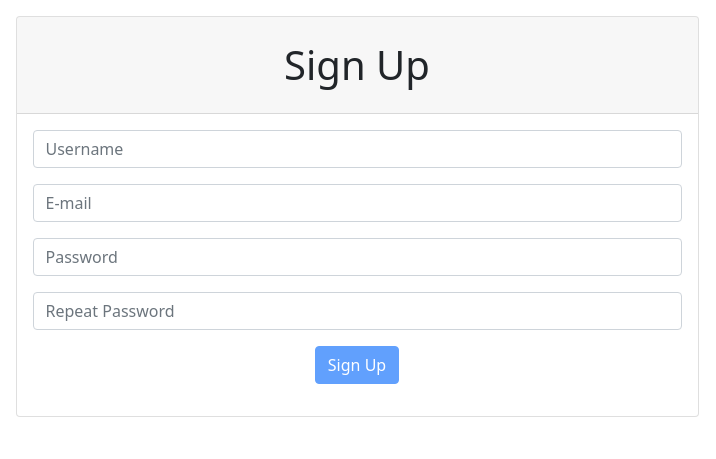
Test case: Sign Up Page › Interactions › displays validation message for password
Type "pepito1" into the field with placeholder "Username".
click(357, 149); type("pepito1")  # box x1=32 y1=130 x2=682 y2=168
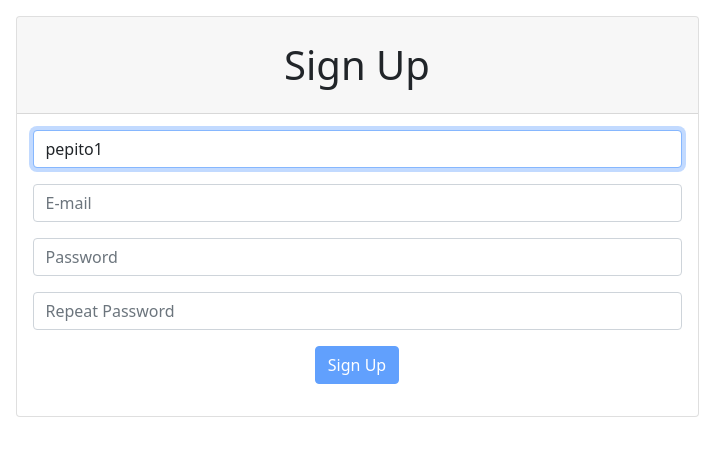
Type "pepito1@mail.com" into the field with placeholder "E-mail".
click(357, 203); type("pepito1@mail.com")  # box x1=32 y1=184 x2=682 y2=222
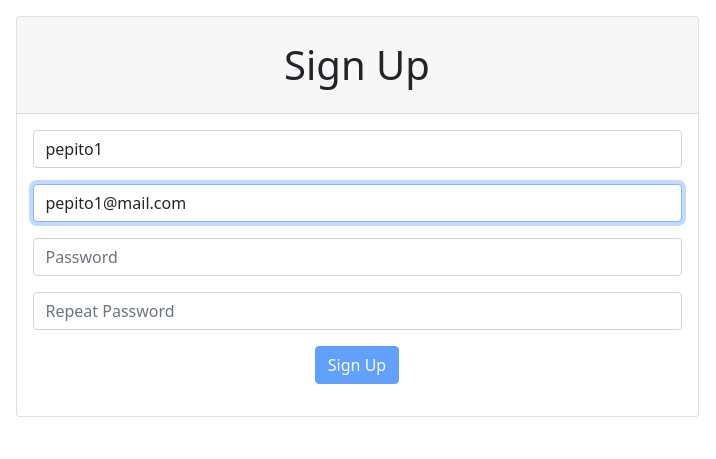
Type "p4ssword" into the password field with placeholder "Password".
click(357, 257); type("p4ssword")  # box x1=32 y1=238 x2=682 y2=276
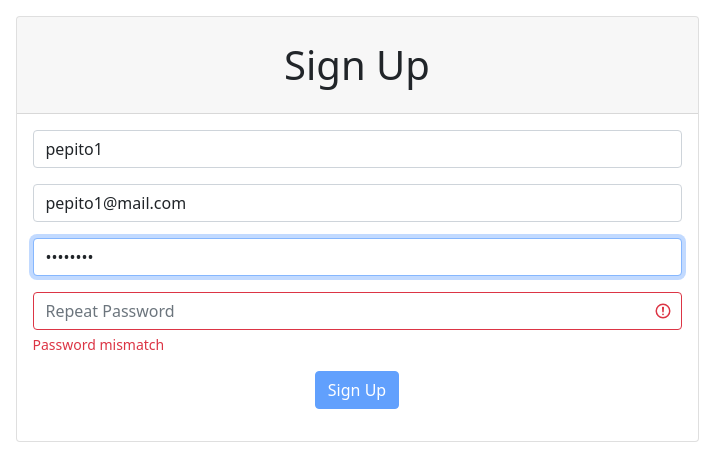
Type "p4ssword" into the password field with placeholder "Repeat Password".
click(357, 311); type("p4ssword")  # box x1=32 y1=292 x2=682 y2=330
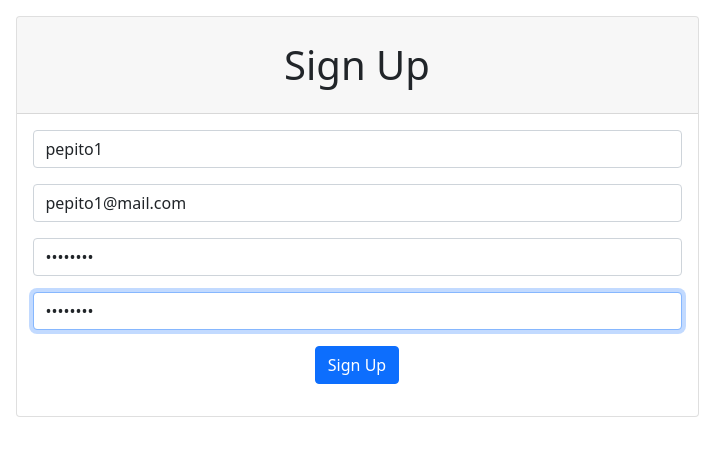
Click the button "Sign Up".
click(357, 365)  # box x1=315 y1=346 x2=399 y2=384
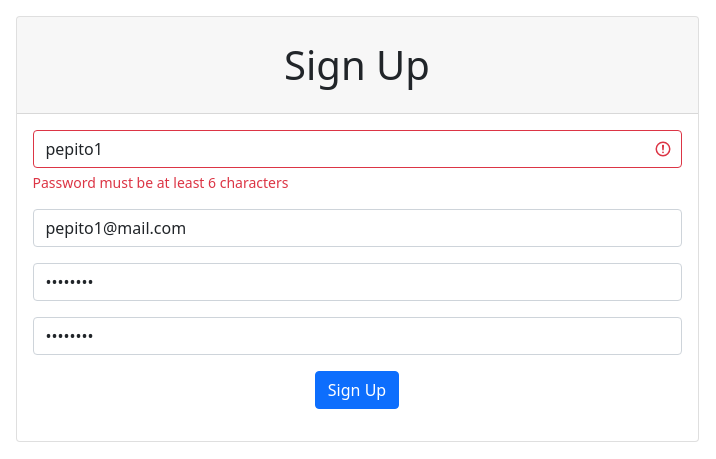
expect the text "Password must be at least 6 characters" is shown: met, box x1=32 y1=173 x2=288 y2=192
